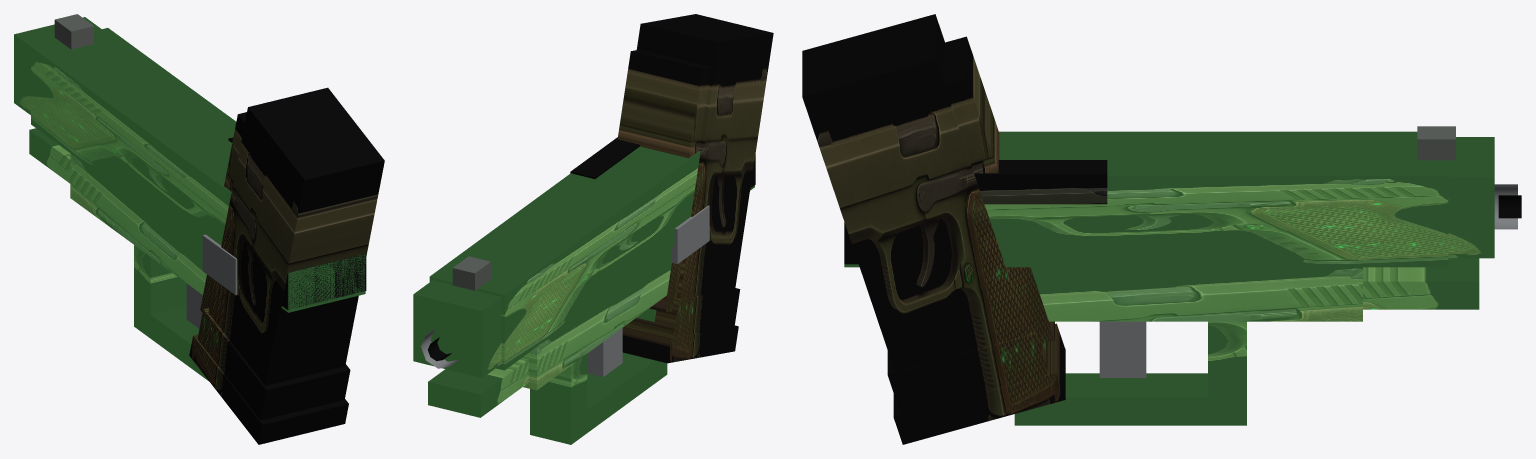
The model's file is pistol_green.glb.
The picture shows the model from 3 angles, left to right: view 1: azimuth 30°, elevation 25°; view 2: azimuth 150°, elevation 25°; view 3: azimuth 270°, elevation 25°; orthographic projection. The views are drawn at different scales.
Parts seen in each view (by area): view 1: PistolMesh; view 2: PistolMesh; view 3: PistolMesh.
Boxes of the visible parts, box(x1,y1,x2,y2) form: PistolMesh: box(14, 14, 384, 444); PistolMesh: box(413, 14, 773, 444); PistolMesh: box(802, 14, 1521, 444).
Bounding box in the file's own units: 0.0302 × 0.1092 × 0.1858.
6 materials, 4 textured.
